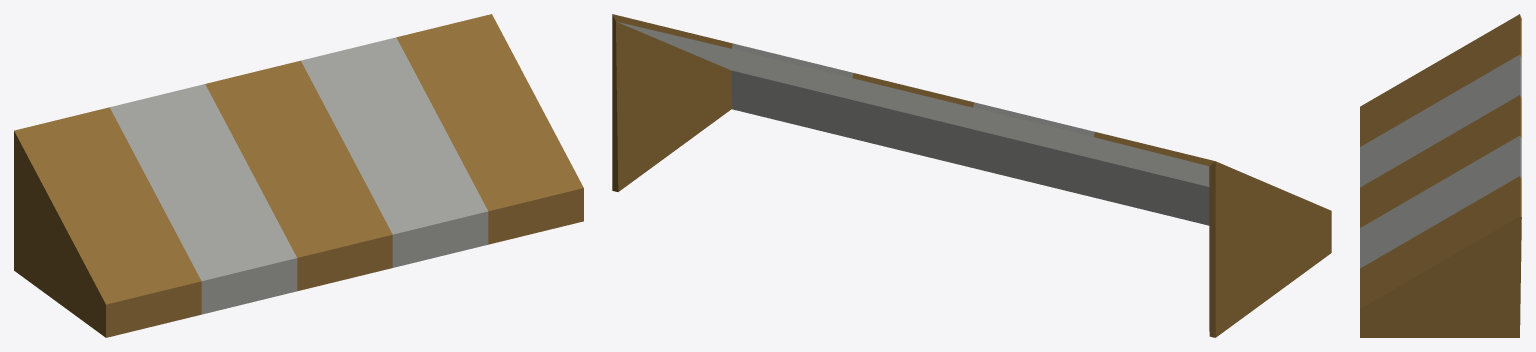
Rendered from SM_Props_Sunshade_01.fbx.
3 views of the same model, side by side, from view 1: azimuth 30°, elevation 25°; view 2: azimuth 150°, elevation 25°; view 3: azimuth 270°, elevation 25° (orthographic). The views are drawn at different scales.
Parts seen in each view (by area): view 1: SM_Props_Sunshade_01; view 2: SM_Props_Sunshade_01; view 3: SM_Props_Sunshade_01.
Part boxes in pixels (left/top/right/bottom): SM_Props_Sunshade_01: left=14, top=14, right=583, bottom=337; SM_Props_Sunshade_01: left=612, top=14, right=1331, bottom=337; SM_Props_Sunshade_01: left=1360, top=14, right=1521, bottom=337.
Bounding box in the file's own units: 300 × 84 × 101.
